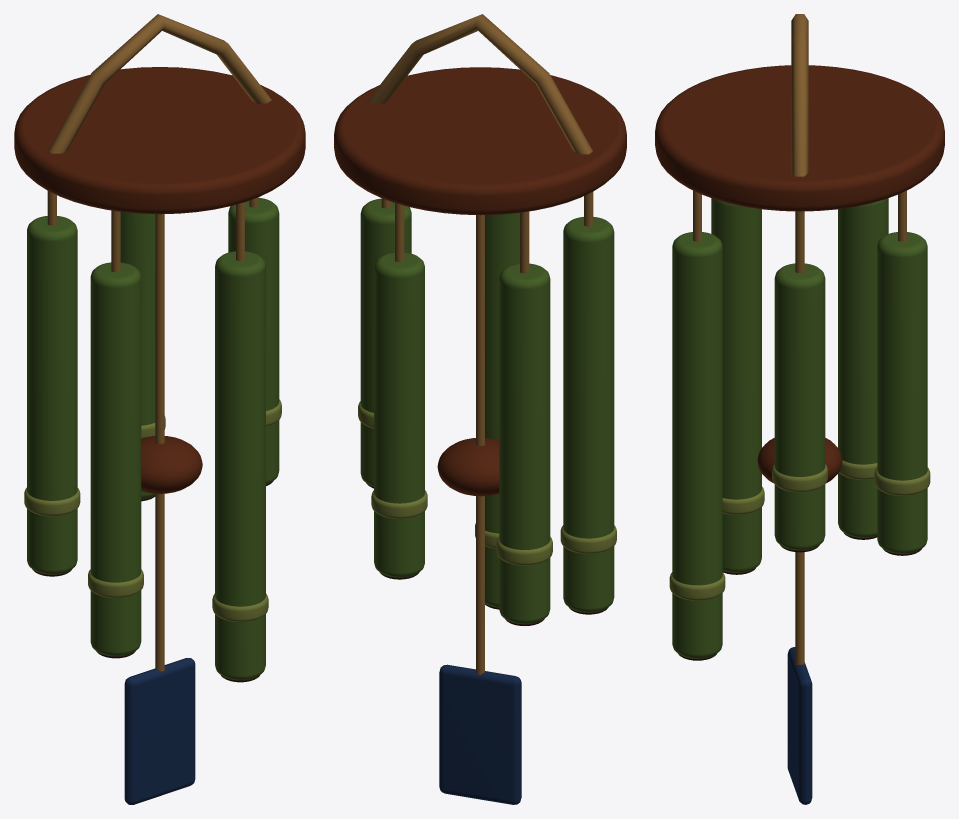
File: 03_Bamboo_Wind_Chime.obj
The picture shows the model from 3 angles, left to right: view 1: azimuth 30°, elevation 25°; view 2: azimuth 150°, elevation 25°; view 3: azimuth 270°, elevation 25°; orthographic projection.
Parts seen in each view (by area): view 1: Wood_crown, Bamboo_chime_tube.004, Bamboo_chime_tube.003, Bamboo_chime_tube.002, Indigo_wind_catcher, Bamboo_chime_tube, Hanger, Bamboo_chime_tube.001, Clapper_cord, Wood_clapper, Bamboo_ring.002, Bamboo_ring.004 (+2 smaller); view 2: Wood_crown, Bamboo_chime_tube.003, Bamboo_chime_tube.002, Bamboo_chime_tube.001, Indigo_wind_catcher, Bamboo_chime_tube.004, Bamboo_chime_tube, Hanger, Clapper_cord, Wood_clapper, Bamboo_ring.001, Bamboo_ring.002 (+3 smaller); view 3: Wood_crown, Bamboo_chime_tube.004, Bamboo_chime_tube.001, Bamboo_chime_tube.003, Bamboo_chime_tube, Bamboo_chime_tube.002, Indigo_wind_catcher, Hanger, Clapper_cord, Wood_clapper, Bamboo_ring.001, Bamboo_ring.004 (+4 smaller).
Part boxes in pixels (x1,y1,x2,y2): Wood_crown: (14, 67, 305, 214); Bamboo_chime_tube.004: (215, 251, 265, 680); Bamboo_chime_tube.003: (90, 262, 141, 656); Bamboo_chime_tube.002: (27, 216, 77, 574); Indigo_wind_catcher: (124, 658, 195, 804); Bamboo_chime_tube: (228, 197, 279, 484); Hanger: (48, 14, 271, 153); Bamboo_chime_tube.001: (120, 212, 155, 499); Clapper_cord: (155, 214, 164, 671); Wood_clapper: (141, 436, 202, 493); Bamboo_ring.002: (24, 487, 80, 516); Bamboo_ring.004: (212, 593, 268, 621); Wood_crown: (334, 67, 626, 215); Bamboo_chime_tube.003: (563, 217, 614, 612); Bamboo_chime_tube.002: (499, 263, 550, 624); Bamboo_chime_tube.001: (374, 252, 424, 577); Indigo_wind_catcher: (439, 664, 521, 804); Bamboo_chime_tube.004: (485, 212, 519, 607); Bamboo_chime_tube: (360, 198, 411, 486); Hanger: (368, 14, 592, 154); Clapper_cord: (476, 215, 484, 675); Wood_clapper: (437, 438, 499, 496); Bamboo_ring.001: (371, 490, 427, 518); Bamboo_ring.002: (496, 537, 552, 565); Wood_crown: (655, 65, 944, 211); Bamboo_chime_tube.004: (672, 232, 722, 658); Bamboo_chime_tube.001: (877, 232, 927, 553); Bamboo_chime_tube.003: (711, 198, 761, 572); Bamboo_chime_tube: (774, 263, 825, 550); Bamboo_chime_tube.002: (838, 198, 888, 537); Indigo_wind_catcher: (787, 647, 812, 804); Hanger: (791, 14, 808, 176); Clapper_cord: (795, 552, 804, 665); Wood_clapper: (757, 438, 842, 482); Bamboo_ring.001: (874, 467, 930, 495); Bamboo_ring.004: (669, 572, 725, 600).
Bounding box in the file's own units: 0.436 × 1.29 × 0.436.
